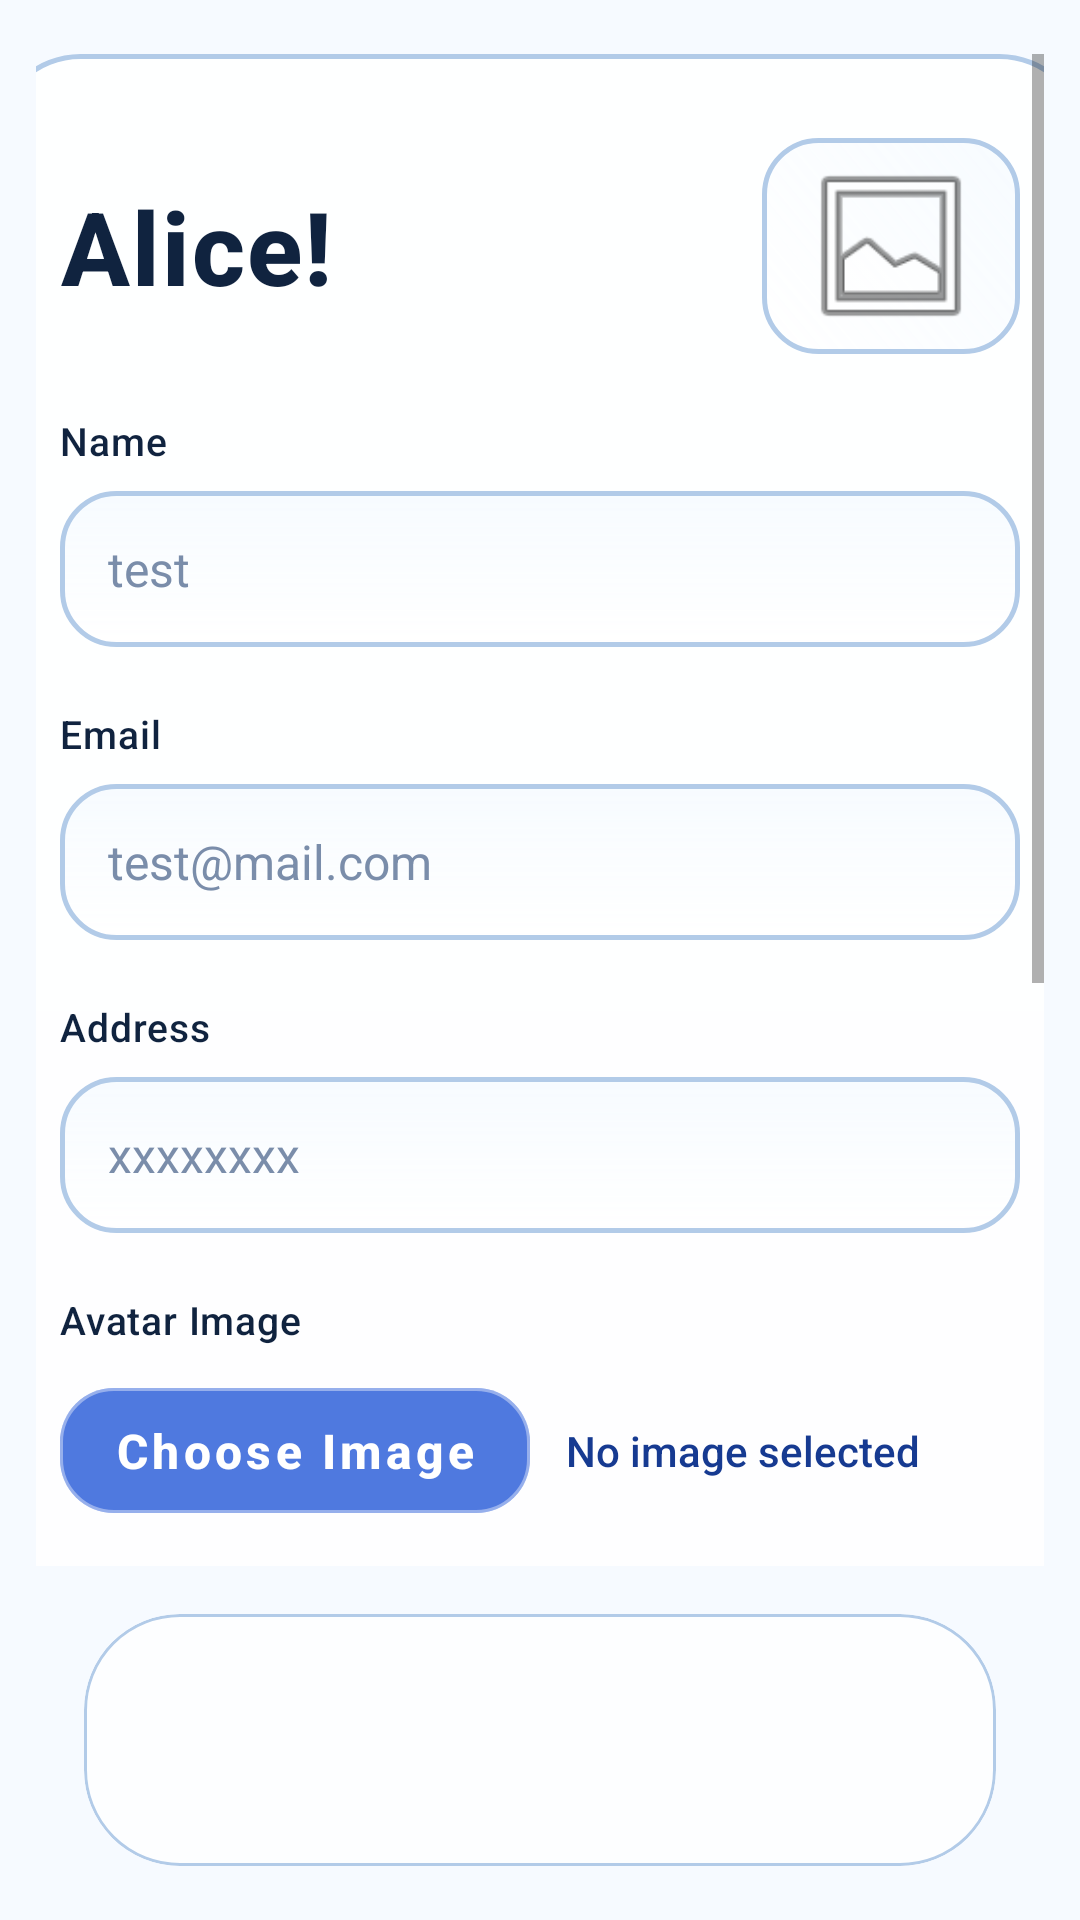

Icon click points for this 1080x1920 phone screenshot, format (x=x, y=y):
Avatar placeholder: (x=891, y=246)
